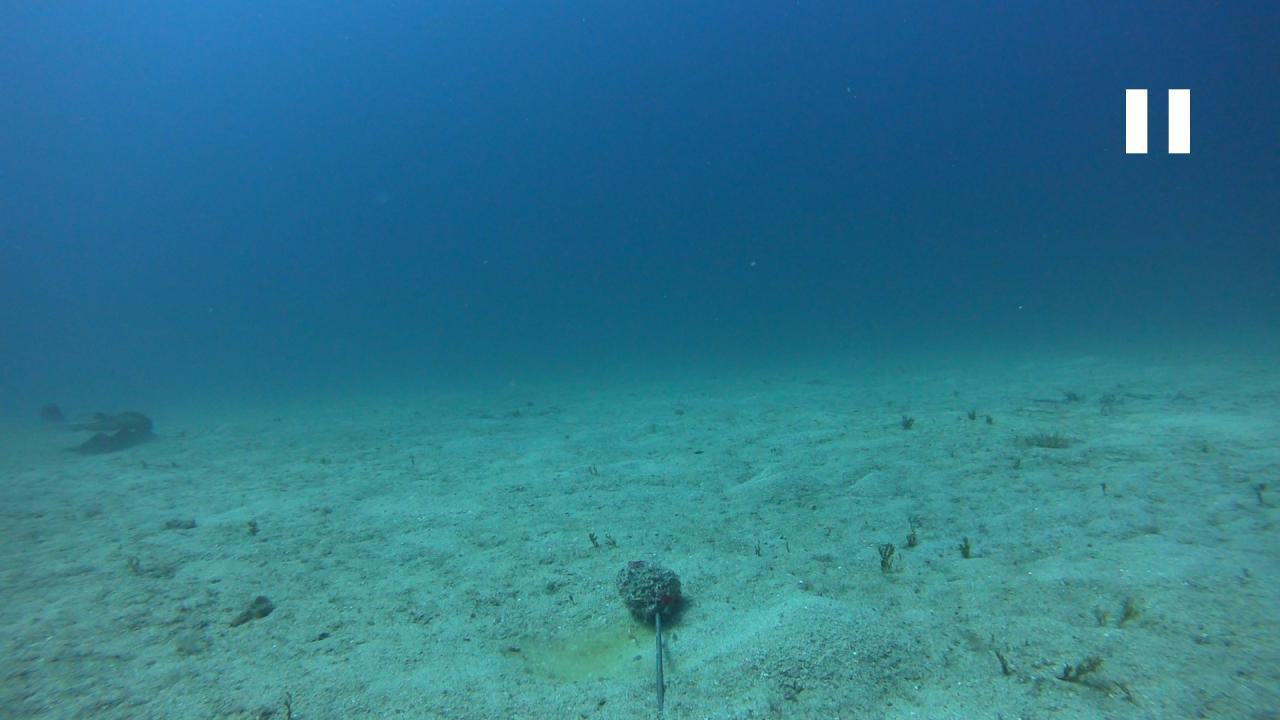dasyatis: (34, 404, 152, 431)
